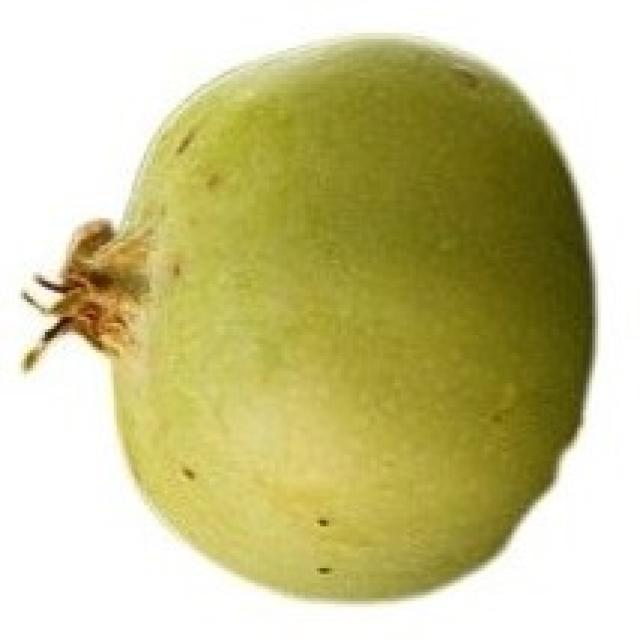50-_ripeness: (27, 38, 596, 600)
